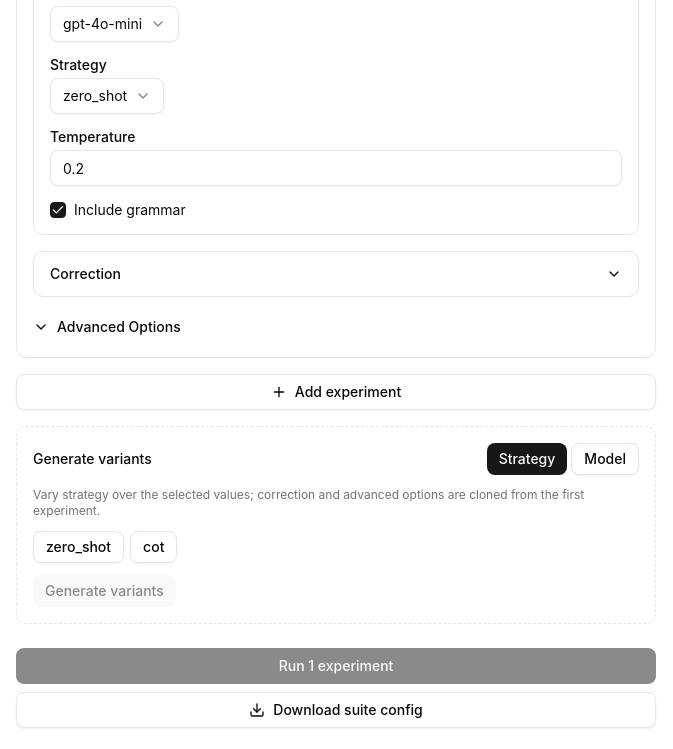
ExperimentsPage › surfaces export warnings without blocking the download
The width and height of the screenshot is (673, 749).
(page scrolled)
Click the button "Download suite config" at (336, 710), box x1=16 y1=692 x2=656 y2=728
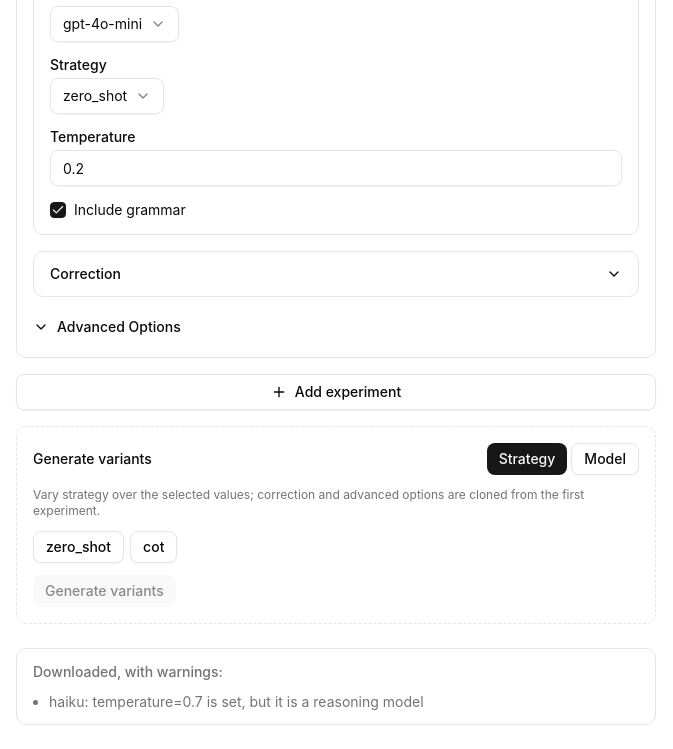
Expected: the list item "haiku: temperature=0.7 is set, but it is a reasoning model" is shown, x1=49 y1=692 x2=424 y2=712
